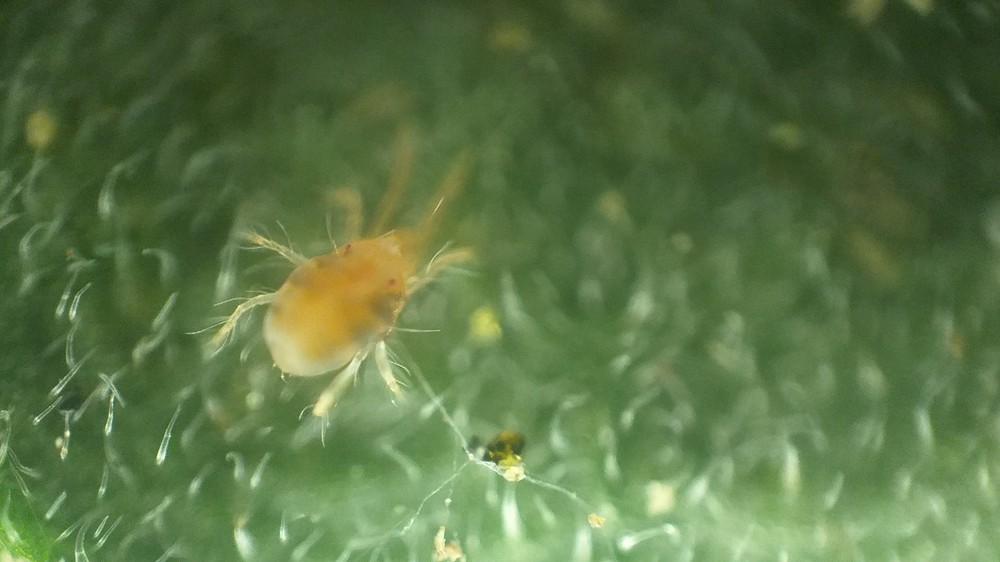Aracnido Rojo: (196, 130, 478, 433)
